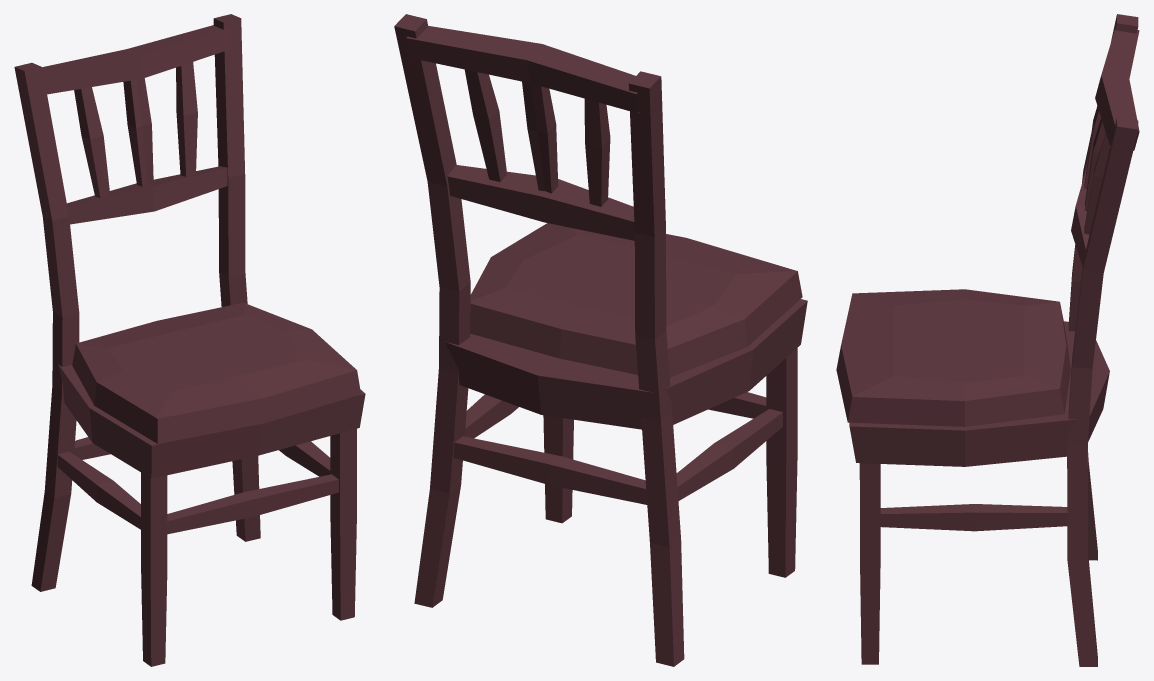
The model's file is chair-dining-old.fbx.
3 renders of one model, left to right at view 1: azimuth 30°, elevation 25°; view 2: azimuth 150°, elevation 25°; view 3: azimuth 270°, elevation 25°, orthographic. The views are drawn at different scales.
Parts seen in each view (by area): view 1: chair-dining-old; view 2: chair-dining-old; view 3: chair-dining-old.
Part boxes in pixels (box(x1,y1,x2,y2)): chair-dining-old: box(14, 14, 365, 666); chair-dining-old: box(394, 14, 807, 666); chair-dining-old: box(836, 14, 1139, 666).
Bounding box in the file's own units: 0.494 × 1.05 × 0.5312.
